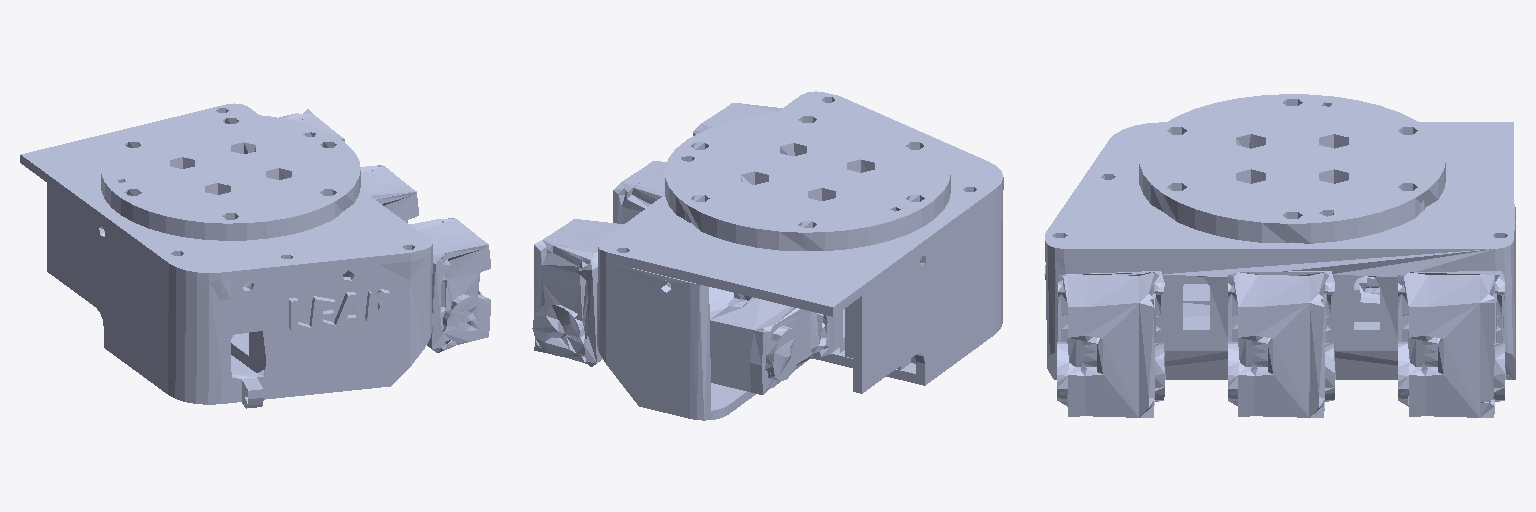
URDF robot description (palm__lower):
<?xml version="1.0" encoding="utf-8"?>
<!-- This URDF was automatically created by SolidWorks to URDF Exporter! Originally created by [author] ([email redacted]) 
     Commit Version: 1.6.0-4-g7f85cfe  Build Version: 1.6.7995.38578
     For more information, please see http://wiki.ros.org/sw_urdf_exporter -->
<robot
  name="palm__lower">
  <link
    name="base_link">
    <inertial>
      <origin
        xyz="2.3078E-08 -2.7849E-08 -3.4543E-06"
        rpy="0 0 0" />
      <mass
        value="3.1934E-11" />
      <inertia
        ixx="1.2471E-20"
        ixy="7.4295E-24"
        ixz="5.8864E-24"
        iyy="1.2348E-20"
        iyz="1.2037E-24"
        izz="2.4516E-20" />
    </inertial>
    <visual>
      <origin
        xyz="0 0 0"
        rpy="0 0 0" />
      <geometry>
        <mesh filename="package://denso_robot_description/meshes/palm_lower/meshes/base_link.STL" />
      </geometry>
      <material
        name="">
        <color
          rgba="0.79216 0.81961 0.93333 1" />
      </material>
    </visual>
    <collision>
      <origin
        xyz="0 0 0"
        rpy="0 0 0" />
      <geometry>
        <mesh filename="package://denso_robot_description/meshes/palm_lower/meshes/base_link.STL" />
      </geometry>
    </collision>
  </link>
  <link
    name="palm_Link">
    <inertial>
      <origin
        xyz="5.6716E-06 -6.0678E-06 -2.3972E-05"
        rpy="0 0 0" />
      <mass
        value="9.7123E-13" />
      <inertia
        ixx="8.419E-23"
        ixy="2.5336E-26"
        ixz="-1.1041E-25"
        iyy="8.419E-23"
        iyz="7.2304E-27"
        izz="2.5354E-24" />
    </inertial>
    <visual>
      <origin
        xyz="0 0 0"
        rpy="0 0 0" />
      <geometry>
        <mesh filename="package://denso_robot_description/meshes/palm_lower/meshes/palm_Link.STL" />
      </geometry>
      <material
        name="">
        <color
          rgba="0.79216 0.81961 0.93333 1" />
      </material>
    </visual>
    <collision>
      <origin
        xyz="0 0 0"
        rpy="0 0 0" />
      <geometry>
        <mesh filename="package://denso_robot_description/meshes/palm_lower/meshes/palm_Link.STL" />
      </geometry>
    </collision>
  </link>
  <joint
    name="palm_joint"
    type="fixed">
    <origin
      xyz="0 0 0"
      rpy="0 0 0" />
    <parent
      link="base_link" />
    <child
      link="palm_Link" />
    <axis
      xyz="0 0 0" />
  </joint>
</robot>

--- What the picture shows (computed from the rendered views, not written in the file) ---
The picture shows the robot from 3 angles, left to right: view 1: azimuth 30°, elevation 25°; view 2: azimuth 150°, elevation 25°; view 3: azimuth 270°, elevation 25°; orthographic projection.
Model palm__lower with 2 links and 1 joints (1 fixed), rooted at base_link, posed every joint at zero.
Visible links, largest first — view 1: palm_Link, base_link; view 2: palm_Link, base_link; view 3: palm_Link, base_link.
Link boxes in pixels (x1,y1,x2,y2): palm_Link: (20, 103, 490, 408); base_link: (101, 114, 360, 240); palm_Link: (532, 91, 1003, 420); base_link: (665, 112, 950, 250); palm_Link: (1044, 122, 1515, 417); base_link: (1139, 94, 1445, 243).
Size in the robot's own frame: 0.0001 by 0.0001 by 0.0001 metres.
2 mesh visuals loaded from 2 distinct referenced files (2 binary STL).